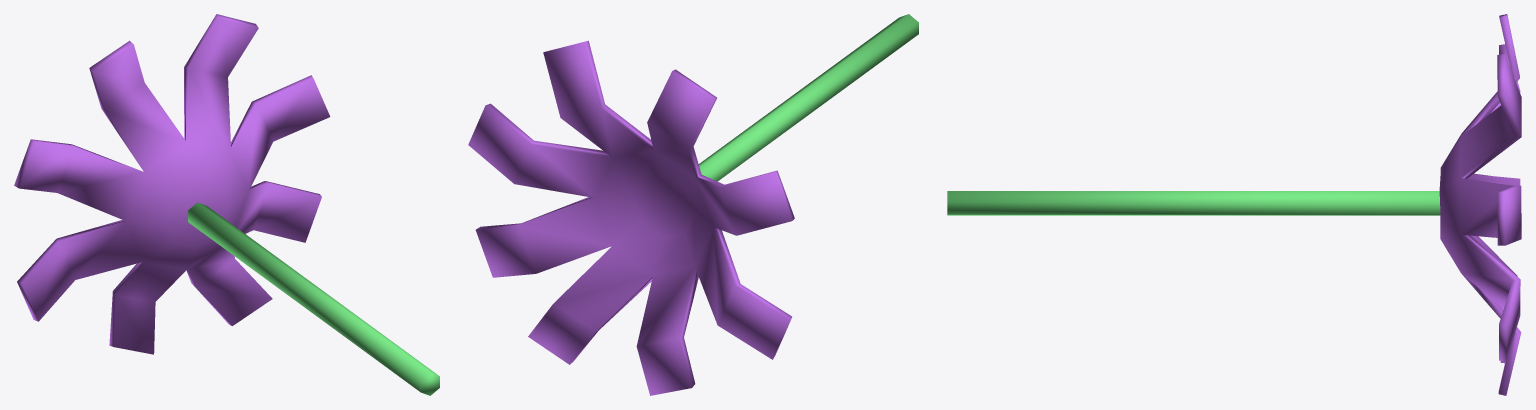
Rendered from PurpleFlower.fbx.
3 views of the same model, side by side, from view 1: azimuth 30°, elevation 25°; view 2: azimuth 150°, elevation 25°; view 3: azimuth 270°, elevation 25° (orthographic). The views are drawn at different scales.
Parts seen in each view (by area): view 1: Cylinder; view 2: Cylinder; view 3: Cylinder.
Boxes of the visible parts, box(x1,y1,x2,y2) form: Cylinder: box(14, 14, 439, 395); Cylinder: box(468, 14, 918, 395); Cylinder: box(947, 14, 1521, 395).
Size of the model in its own units: 191 by 189 by 286.
